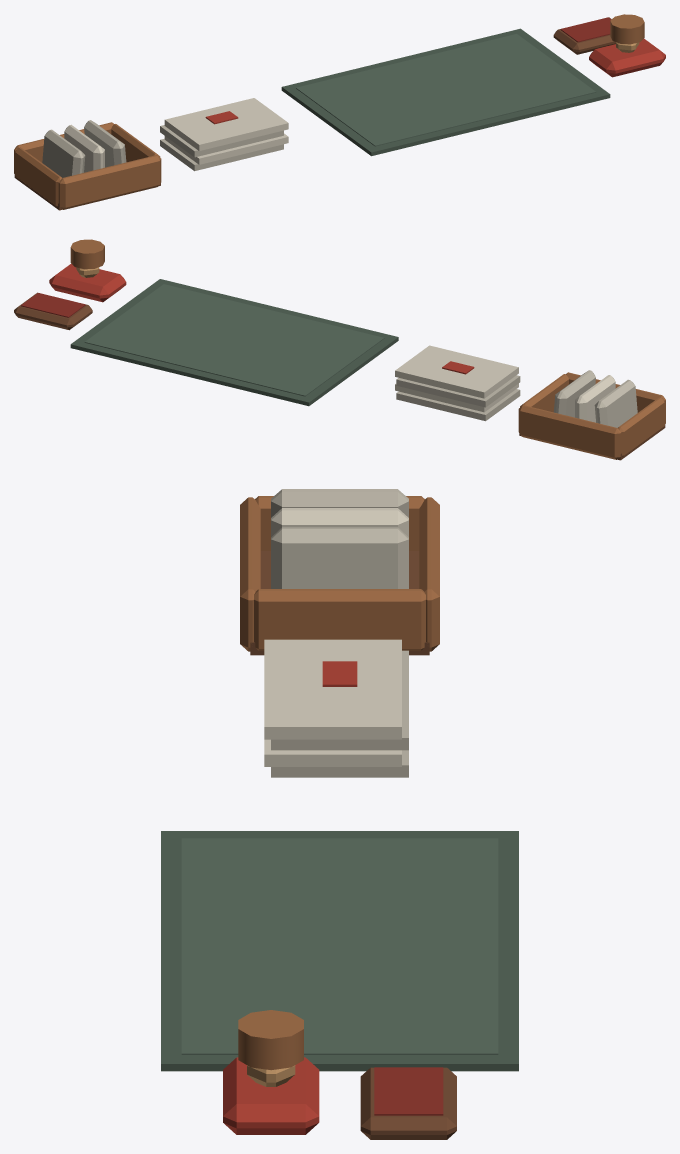
File: desk_set.glb
The picture shows the model from 3 angles, top to bottom: view 1: azimuth 30°, elevation 25°; view 2: azimuth 150°, elevation 25°; view 3: azimuth 270°, elevation 25°; orthographic projection. The views are drawn at different scales.
Visible parts, largest first — view 1: body; view 2: body; view 3: body.
Boxes of the visible parts, <box> form: body: <box>14,14,665,210</box>; body: <box>14,239,665,460</box>; body: <box>161,489,518,1139</box>.
Size of the model in its own units: 2.02 by 0.1501 by 0.52.
